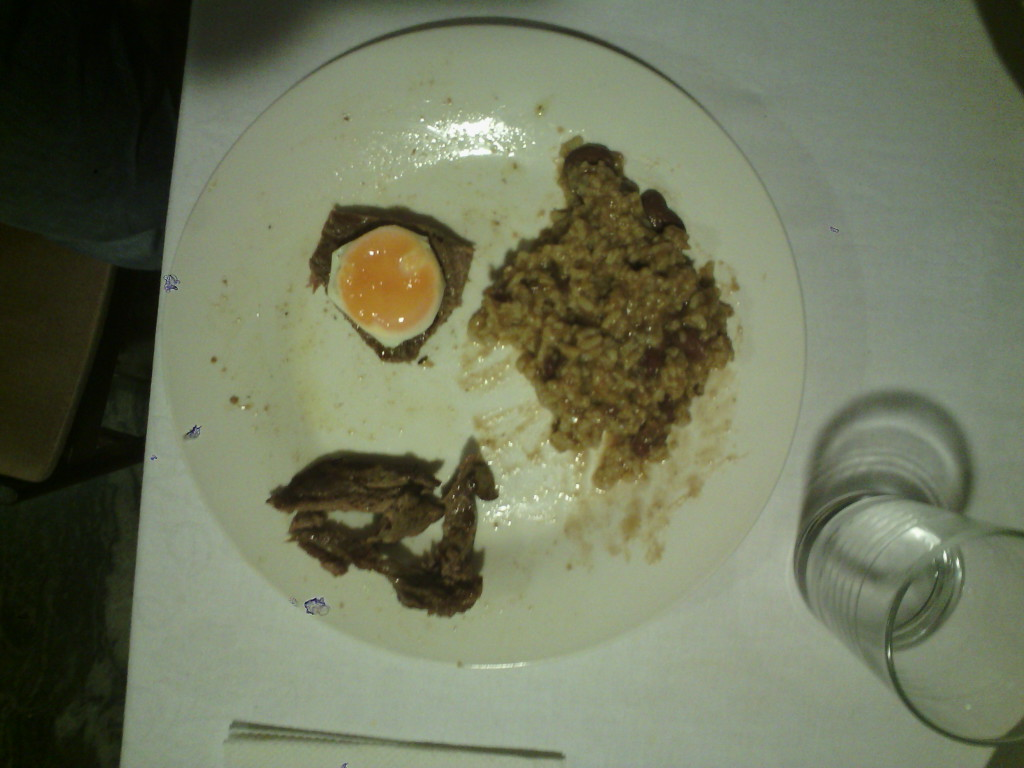41-60: (161, 23, 804, 672)
